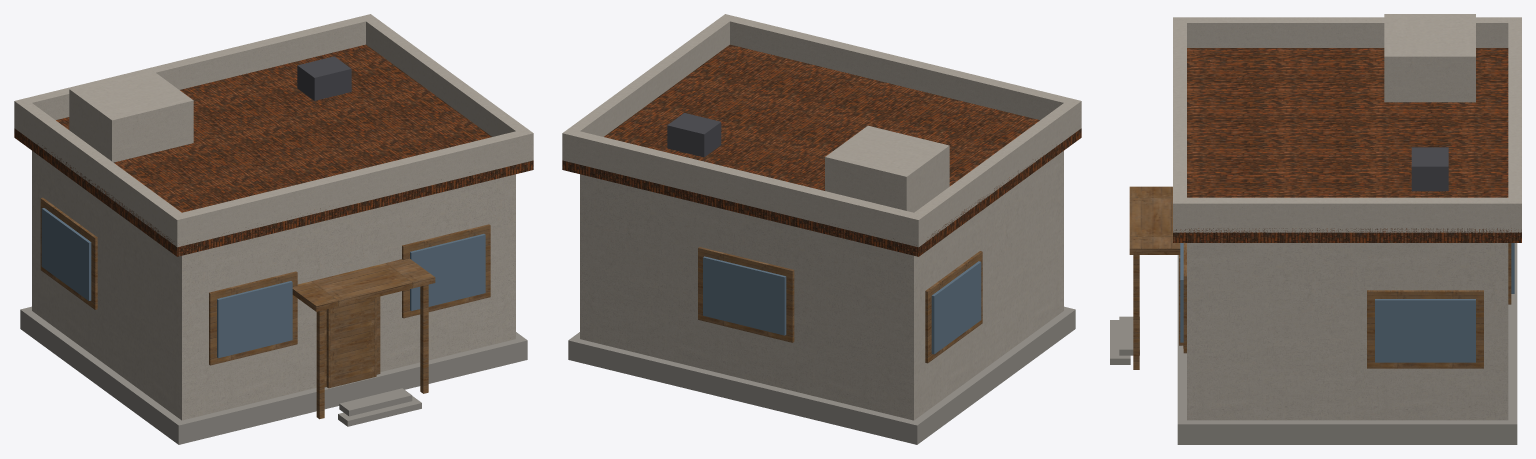
The model's file is HouseC.glb.
The picture shows the model from 3 angles, left to right: view 1: azimuth 30°, elevation 25°; view 2: azimuth 150°, elevation 25°; view 3: azimuth 270°, elevation 25°; orthographic projection. The views are drawn at different scales.
Visible parts, largest first — view 1: HouseC; view 2: HouseC; view 3: HouseC.
Part boxes in pixels (x1=…): HouseC: x1=14, y1=14, x2=533, y2=444; HouseC: x1=562, y1=14, x2=1081, y2=444; HouseC: x1=1110, y1=14, x2=1521, y2=444.
Bounding box in the file's own units: 9.6 × 6.35 × 8.97.
6 materials, 3 textured.
